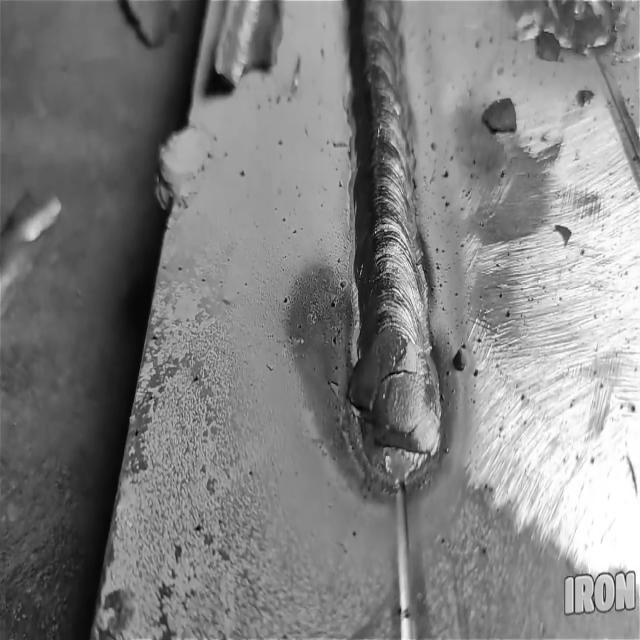Good Weld: (330, 0, 443, 332)
